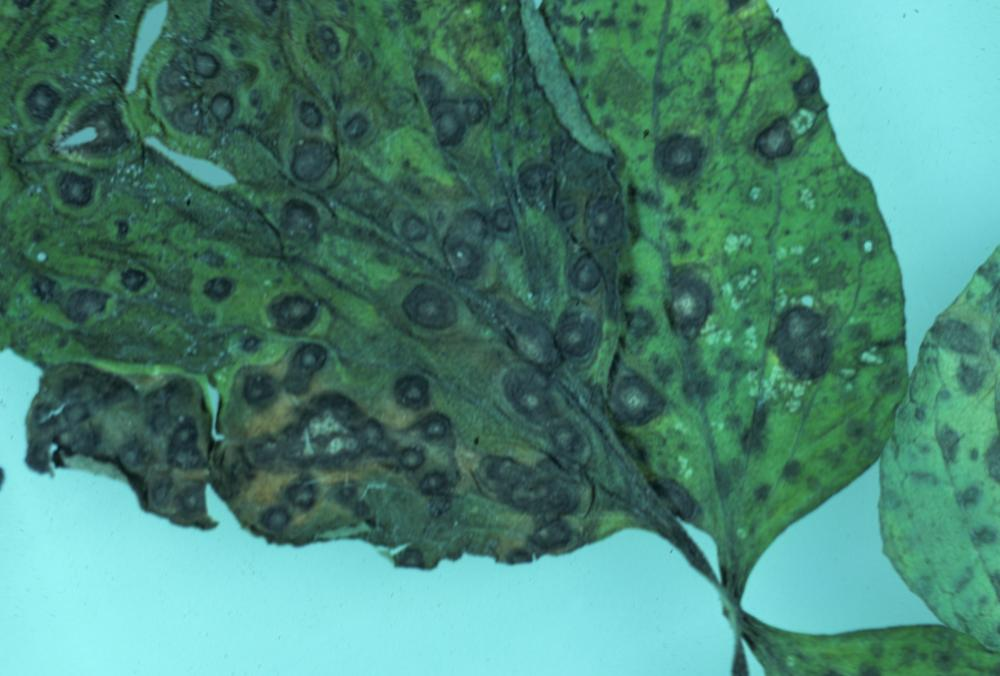Tomato Septoria leaf spot: (0, 0, 997, 676)
